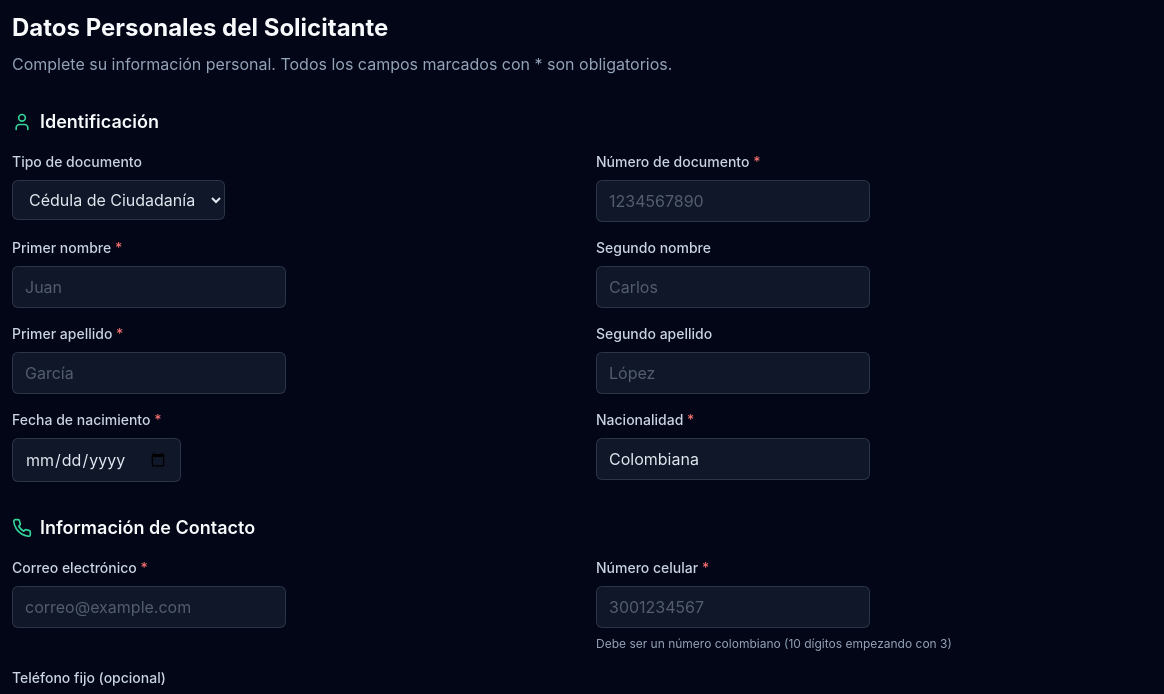
Test: FormStep3New - Datos Personales › 🖱️ User interactions › should show age when valid birth date is entered
The width and height of the screenshot is (1164, 694).
In the date field labelled "Fecha de nacimiento *": [96, 460] box [12,438,181,482], type "1990-01-01"
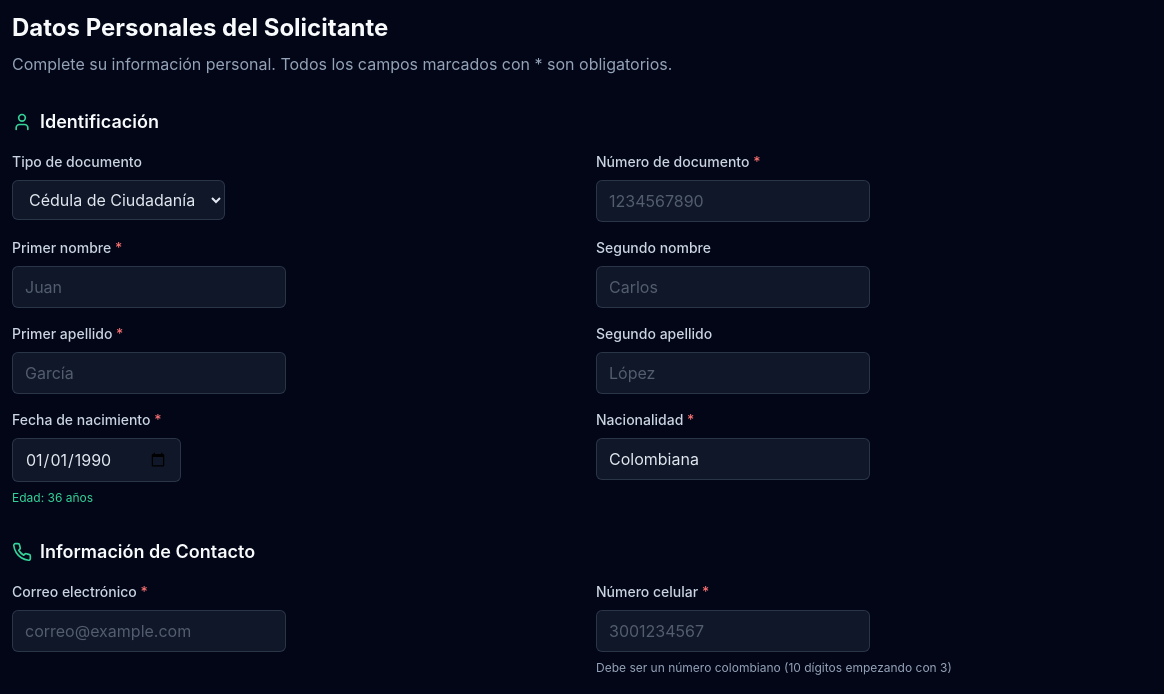
Check: the text "Edad: 36 años" is shown, box [12,490,93,505]
